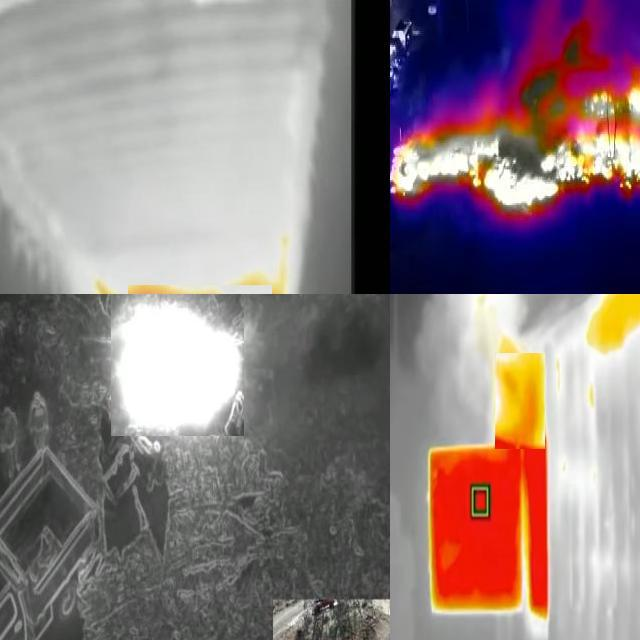fire: (392, 45, 640, 214), (111, 295, 244, 436), (495, 354, 545, 450)
